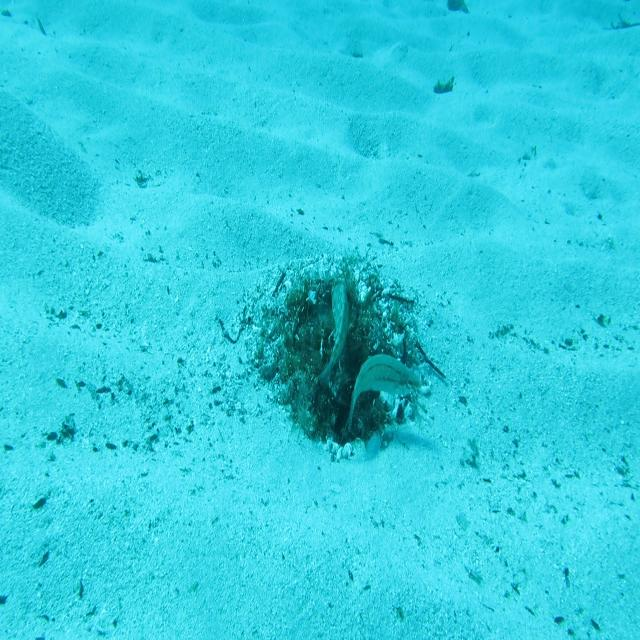NIP_CORE: (315, 280, 350, 392)
core_nest: (310, 291, 356, 346)
female: (347, 352, 423, 435)
nest: (240, 241, 446, 476)
vegetation: (432, 75, 456, 95)
